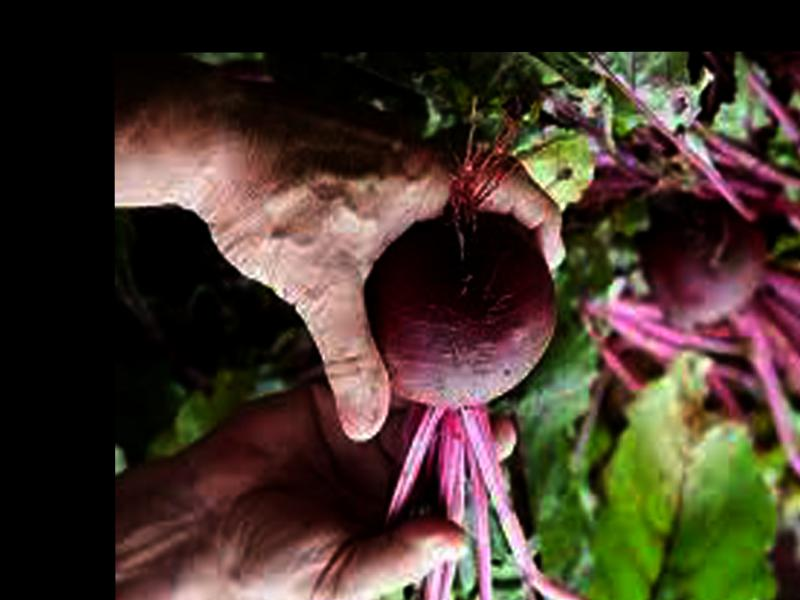Beet: (361, 211, 661, 600)
